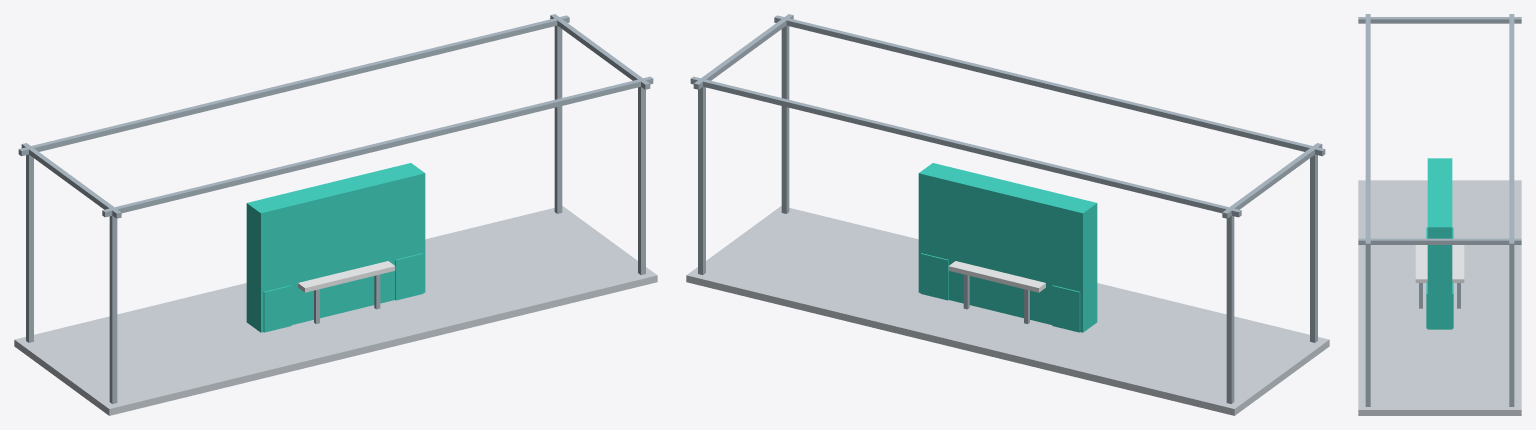
3 views of the same model, side by side, from view 1: azimuth 30°, elevation 25°; view 2: azimuth 150°, elevation 25°; view 3: azimuth 270°, elevation 25° (orthographic). The views are drawn at different scales.
Visible parts, largest first — view 1: Exhibition Booth Concept; view 2: Exhibition Booth Concept; view 3: Exhibition Booth Concept.
Part boxes in pixels (<box>): Exhibition Booth Concept: <box>14,14,657,415</box>; Exhibition Booth Concept: <box>686,14,1329,415</box>; Exhibition Booth Concept: <box>1358,14,1521,415</box>.
Bounding box in the file's own units: 10 × 3.49 × 3.
